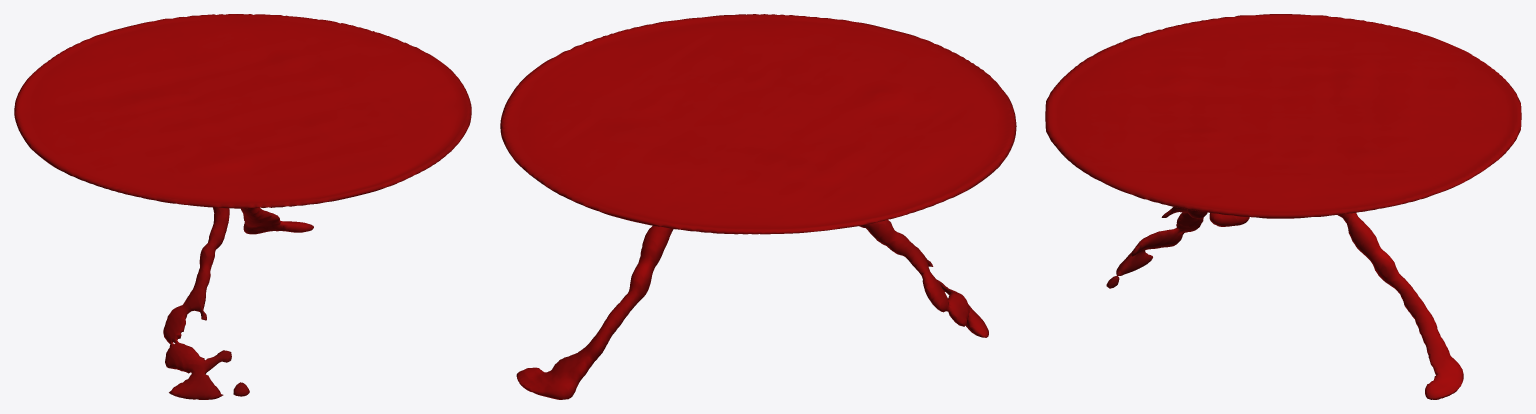
File: A modern round glass table with three red legs, fe.glb
3 views of the same model, side by side, from view 1: azimuth 30°, elevation 25°; view 2: azimuth 150°, elevation 25°; view 3: azimuth 270°, elevation 25° (orthographic). The views are drawn at different scales.
Visible parts, largest first — view 1: A modern round glass table with three red legs, fe; view 2: A modern round glass table with three red legs, fe; view 3: A modern round glass table with three red legs, fe.
Boxes of the visible parts, x1,y1,x2,y2 form: A modern round glass table with three red legs, fe: (14,14,471,399); A modern round glass table with three red legs, fe: (500,14,1016,399); A modern round glass table with three red legs, fe: (1045,14,1521,399).
Size of the model in its own units: 1.98 by 0.9927 by 1.98.
